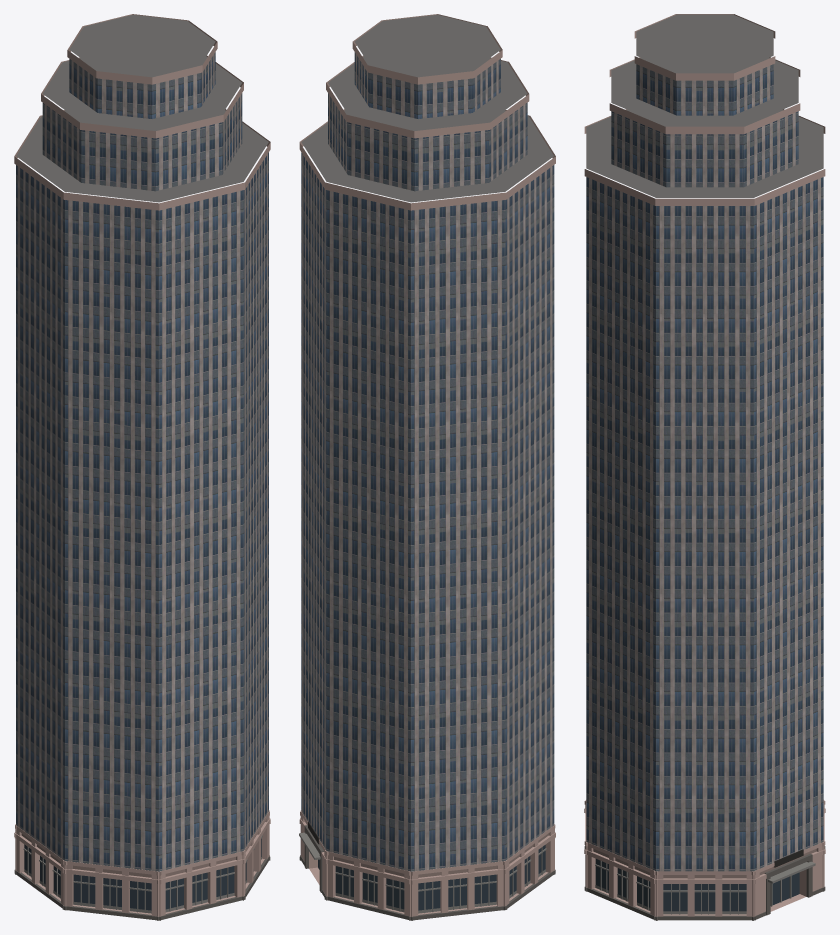
Rendered from thousand_second.glb.
3 renders of one model, left to right at view 1: azimuth 30°, elevation 25°; view 2: azimuth 150°, elevation 25°; view 3: azimuth 270°, elevation 25°, orthographic.
Visible parts, largest first — view 1: thousand_second; view 2: thousand_second; view 3: thousand_second.
Part boxes in pixels (bbox=[...]): thousand_second: bbox=[14, 14, 270, 920]; thousand_second: bbox=[299, 14, 555, 920]; thousand_second: bbox=[584, 14, 825, 920].
Bounding box in the file's own units: 35.72 × 135 × 35.72.
Materials: 2 (2 with a texture image).
